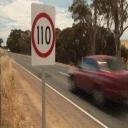speed_limit_110: (28, 0, 58, 71)
